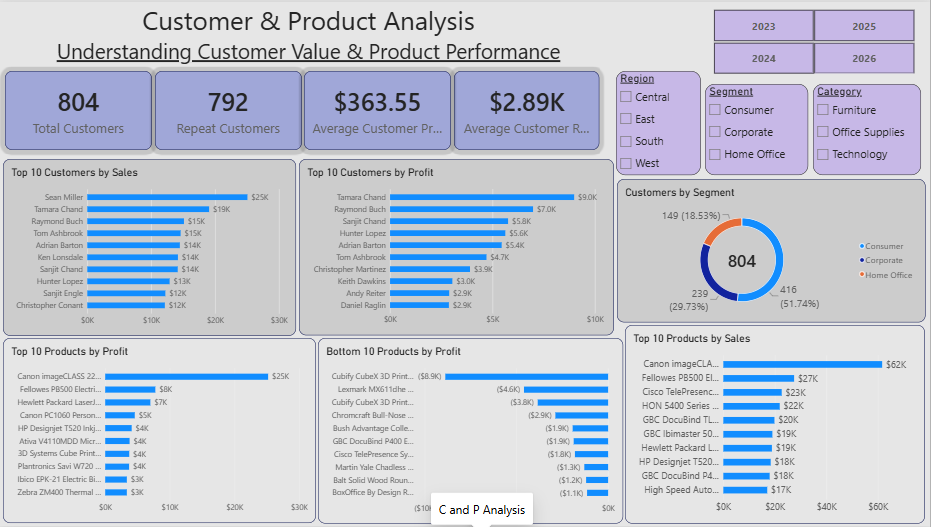

What the dashboard file says about the page in this screenshot:
{"tool":"powerbi","page":{"name":"C and P Analysis","canvas":[1920,1080],"ordinal":2},"visuals":[{"type":"textbox","box":[0,0,1273.8,200.3],"z":0},{"type":"card","fields":{"Values":["superstore.Total Customers"]},"box":[10,142.5,302.5,162.5],"z":1000},{"type":"card","fields":{"Values":["superstore.Repeat Customers"]},"box":[320,142.5,302.5,162.5],"z":2000},{"type":"card","fields":{"Values":["superstore.Average Customer Revenue"]},"box":[937.5,142.5,300,162.5],"z":3000},{"type":"card","fields":{"Values":["superstore.Average Customer Profit"]},"box":[627.5,142.5,302.5,162.5],"z":4000},{"type":"clusteredBarChart","title":"Top 10 Customers by Sales","fields":{"Category":["superstore.Customer Name"],"Y":["superstore.Total Sales"]},"box":[5.9,323.2,605,364.6],"z":5000},{"type":"clusteredBarChart","title":"Top 10 Customers by Profit","fields":{"Category":["superstore.Customer Name"],"Y":["superstore.Total Profit"]},"box":[618,324,650,364],"z":6000},{"type":"donutChart","title":"Customers by Segment","fields":{"Category":["superstore.Segment"],"Y":["superstore.Total Customers"]},"box":[1273.1,364.6,636.6,295.6],"z":7000},{"type":"clusteredBarChart","title":"Top 10 Products by Sales","fields":{"Category":["superstore.Product Name"],"Y":["superstore.Total Sales"]},"box":[1290.9,666.1,618.8,409.9],"z":8000},{"type":"clusteredBarChart","title":"Top 10 Products by Profit","fields":{"Category":["superstore.Product Name"],"Y":["superstore.Total Profit"]},"box":[5.9,693.7,646.4,382.3],"z":9000},{"type":"clusteredBarChart","title":"Bottom 10 Products by Profit","fields":{"Category":["superstore.Product Name"],"Y":["superstore.Total Profit"]},"box":[656.7,693.3,630,383.3],"z":10000},{"type":"slicer","fields":{"Values":["DateTable.Year"]},"box":[1452.5,15,452.5,135],"z":11000},{"type":"slicer","fields":{"Values":["superstore.Region"]},"box":[1271.7,142.5,175.5,214.7],"z":12000},{"type":"slicer","fields":{"Values":["superstore.Segment"]},"box":[1455.5,169.3,212.6,187.9],"z":13000},{"type":"slicer","fields":{"Values":["superstore.Category"]},"box":[1678.5,169.3,223,187.9],"z":14000}]}

Visuals, with their boxes in screenshot pixels (x1, y1, x2, y2), scaled from the page's 1920x1080 canvas onto the 931x527 screenshot:
textbox: [left=0, top=0, right=618, bottom=98]
card - superstore.Total Customers: [left=5, top=70, right=152, bottom=149]
card - superstore.Repeat Customers: [left=155, top=70, right=302, bottom=149]
card - superstore.Average Customer Revenue: [left=455, top=70, right=600, bottom=149]
card - superstore.Average Customer Profit: [left=304, top=70, right=451, bottom=149]
"Top 10 Customers by Sales" clusteredBarChart: [left=3, top=158, right=296, bottom=336]
"Top 10 Customers by Profit" clusteredBarChart: [left=300, top=158, right=615, bottom=336]
"Customers by Segment" donutChart: [left=617, top=178, right=926, bottom=322]
"Top 10 Products by Sales" clusteredBarChart: [left=626, top=325, right=926, bottom=525]
"Top 10 Products by Profit" clusteredBarChart: [left=3, top=338, right=316, bottom=525]
"Bottom 10 Products by Profit" clusteredBarChart: [left=318, top=338, right=624, bottom=525]
slicer - DateTable.Year: [left=704, top=7, right=924, bottom=73]
slicer - superstore.Region: [left=617, top=70, right=702, bottom=174]
slicer - superstore.Segment: [left=706, top=83, right=809, bottom=174]
slicer - superstore.Category: [left=814, top=83, right=922, bottom=174]
